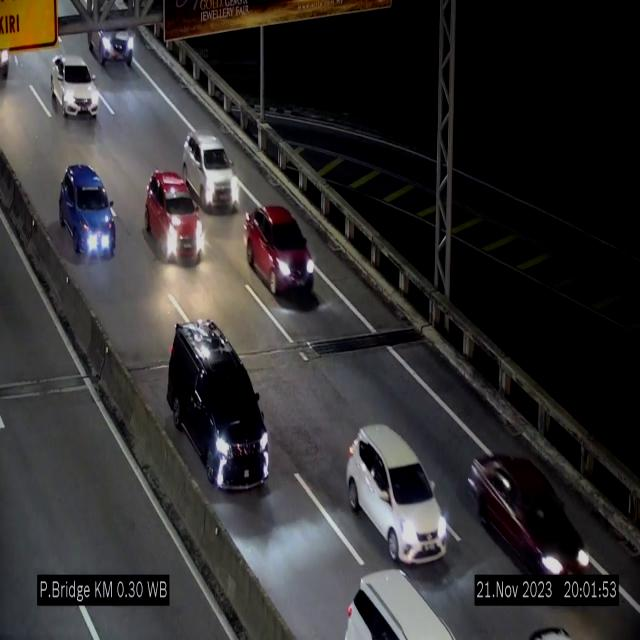Car: (160, 316, 278, 494), (467, 448, 590, 573), (346, 424, 448, 562), (246, 204, 314, 299), (142, 171, 206, 271), (59, 164, 115, 256), (183, 132, 239, 210), (49, 52, 101, 126)
